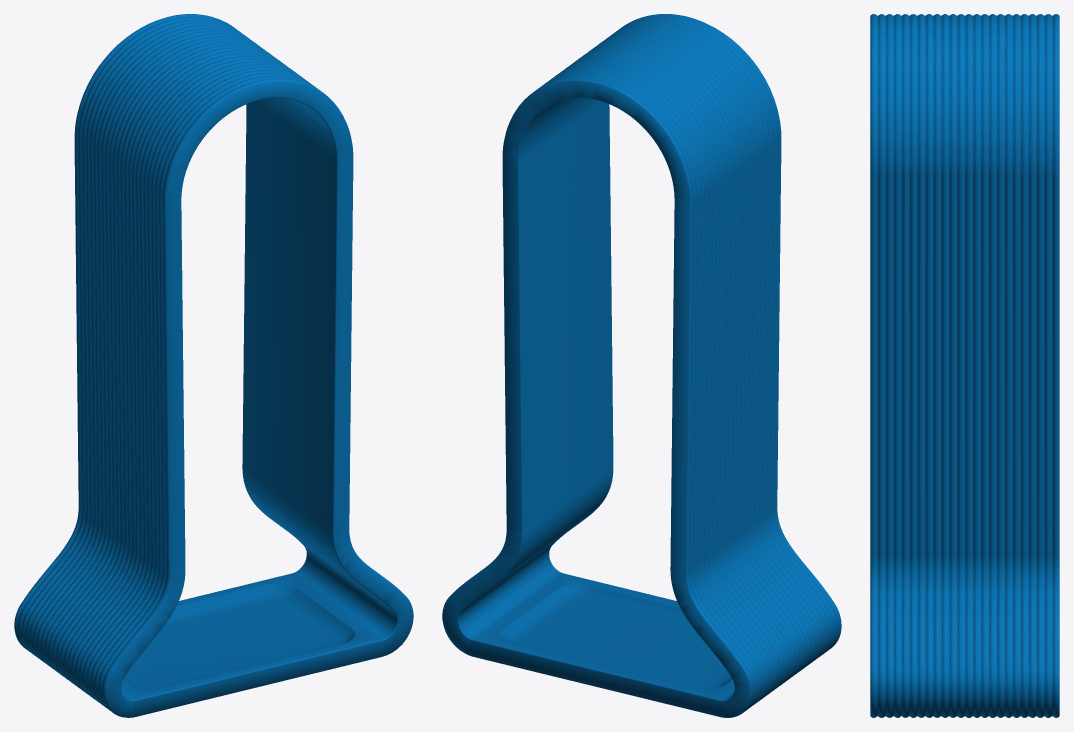
File: kulaklik-standi-yivli.glb
3 views of the same model, side by side, from view 1: azimuth 30°, elevation 25°; view 2: azimuth 150°, elevation 25°; view 3: azimuth 270°, elevation 25° (orthographic). The views are drawn at different scales.
Parts seen in each view (by area): view 1: Body; view 2: Body; view 3: Body.
Part boxes in pixels (x1,y1,x2,y2): Body: [14, 14, 413, 717]; Body: [442, 14, 841, 717]; Body: [870, 14, 1059, 717].
Size of the model in its own units: 0.1357 by 0.253 by 0.0691.
